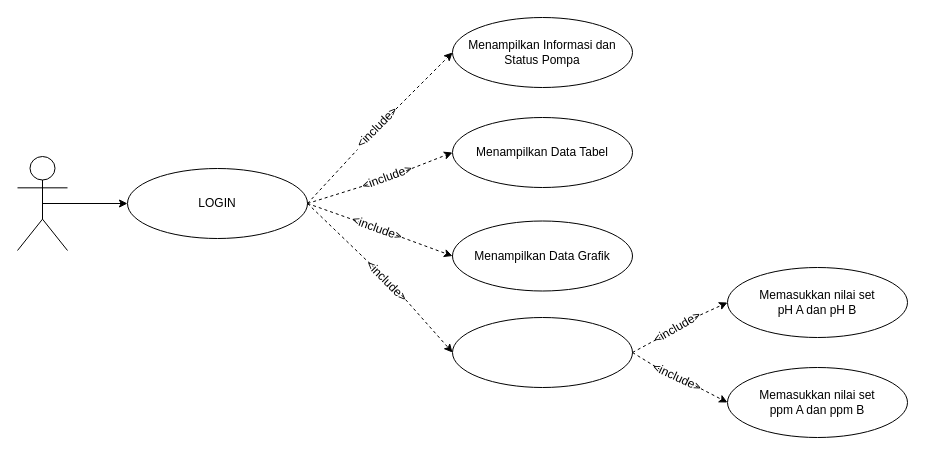
Image size: 925x455. Some labels were removed from this diagram. Here are the shapes that lost their labels. From the top down, the centre of each, then its label:
At point 42,203: "User".
At point 542,352: "Setting".
